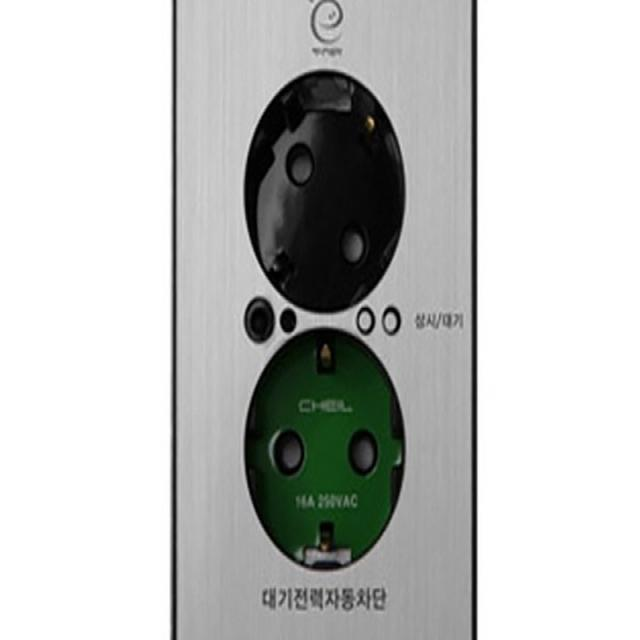typeb: (153, 2, 502, 640)
